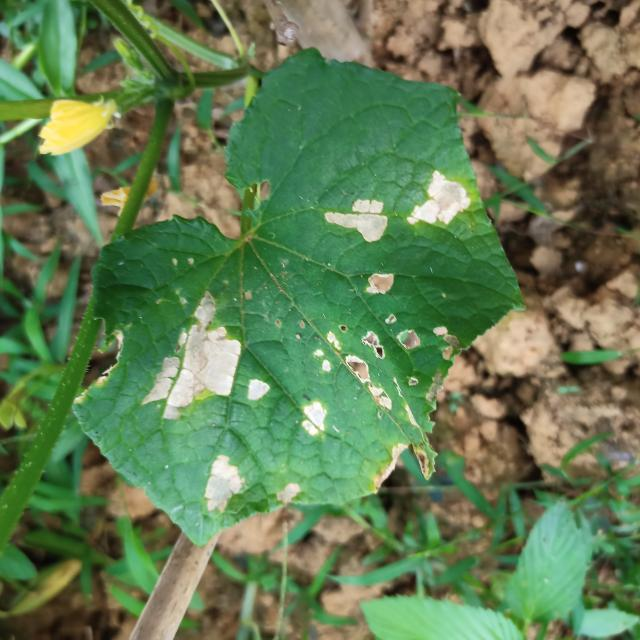disease_cucumber: (136, 278, 305, 516), (317, 157, 473, 310), (294, 313, 448, 461)
